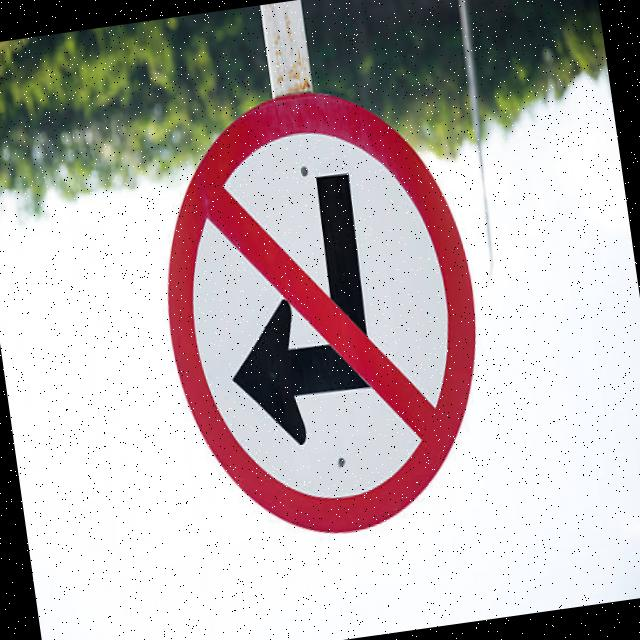do_not_turn_right: (140, 74, 514, 577)
